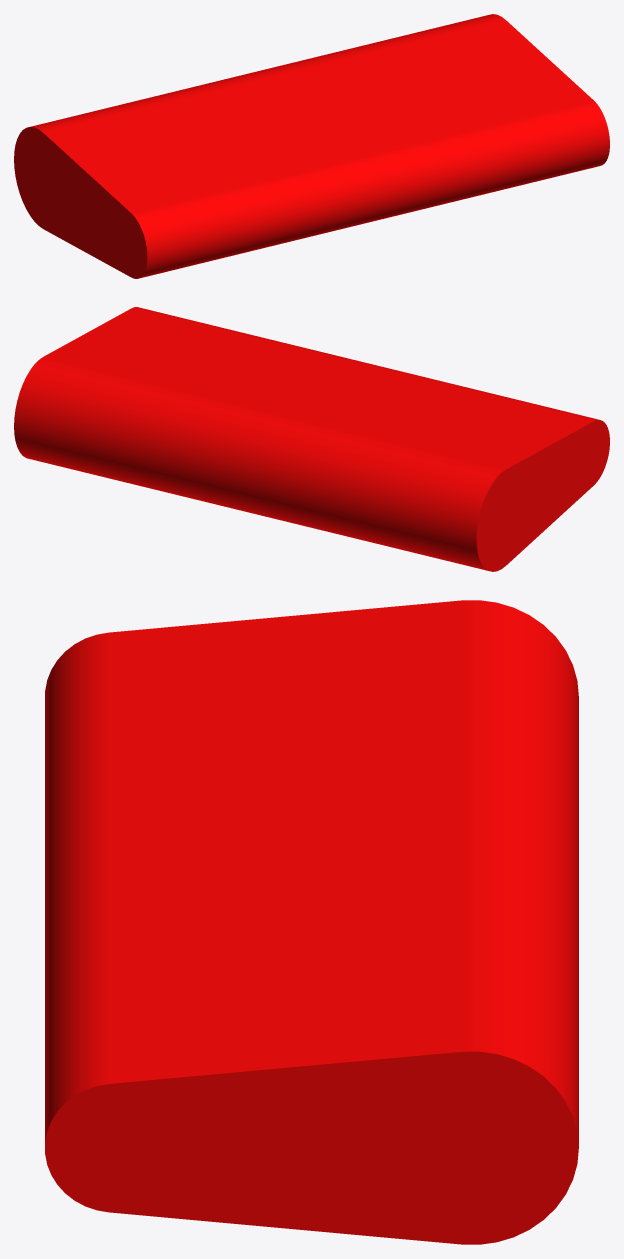
File: Unity Assets - Stab Rave Omni Fork Spacer.dae
The picture shows the model from 3 angles, top to bottom: view 1: azimuth 30°, elevation 25°; view 2: azimuth 150°, elevation 25°; view 3: azimuth 270°, elevation 25°; orthographic projection. The views are drawn at different scales.
Parts seen in each view (by area): view 1: ID2; view 2: ID2; view 3: ID2.
Boxes of the visible parts, bbox=[...] form: ID2: bbox=[14, 14, 609, 278]; ID2: bbox=[14, 307, 609, 571]; ID2: bbox=[45, 600, 578, 1244].
Size of the model in its own units: 0.06 by 0.03 by 0.012.
